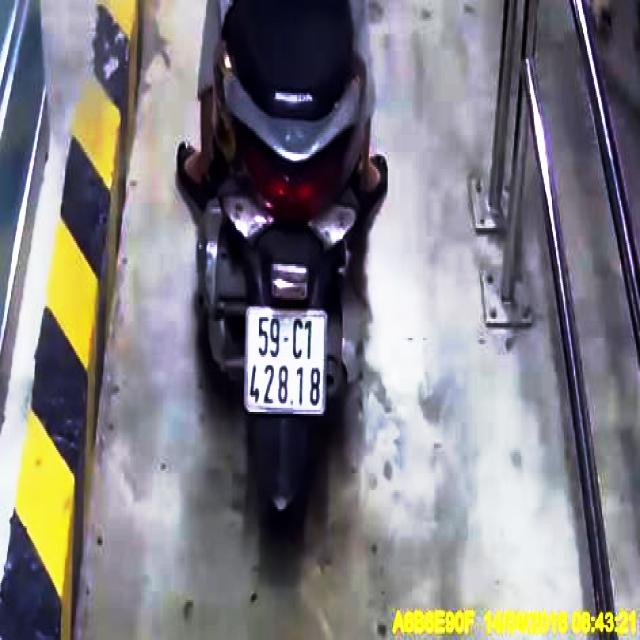license_plate: (251, 307, 326, 417)
